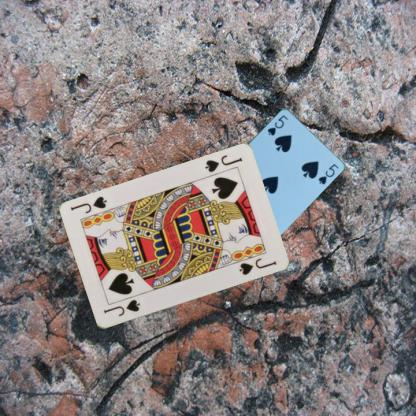5s: (264, 112, 289, 137)
Js: (202, 152, 244, 174), (101, 297, 142, 318)
